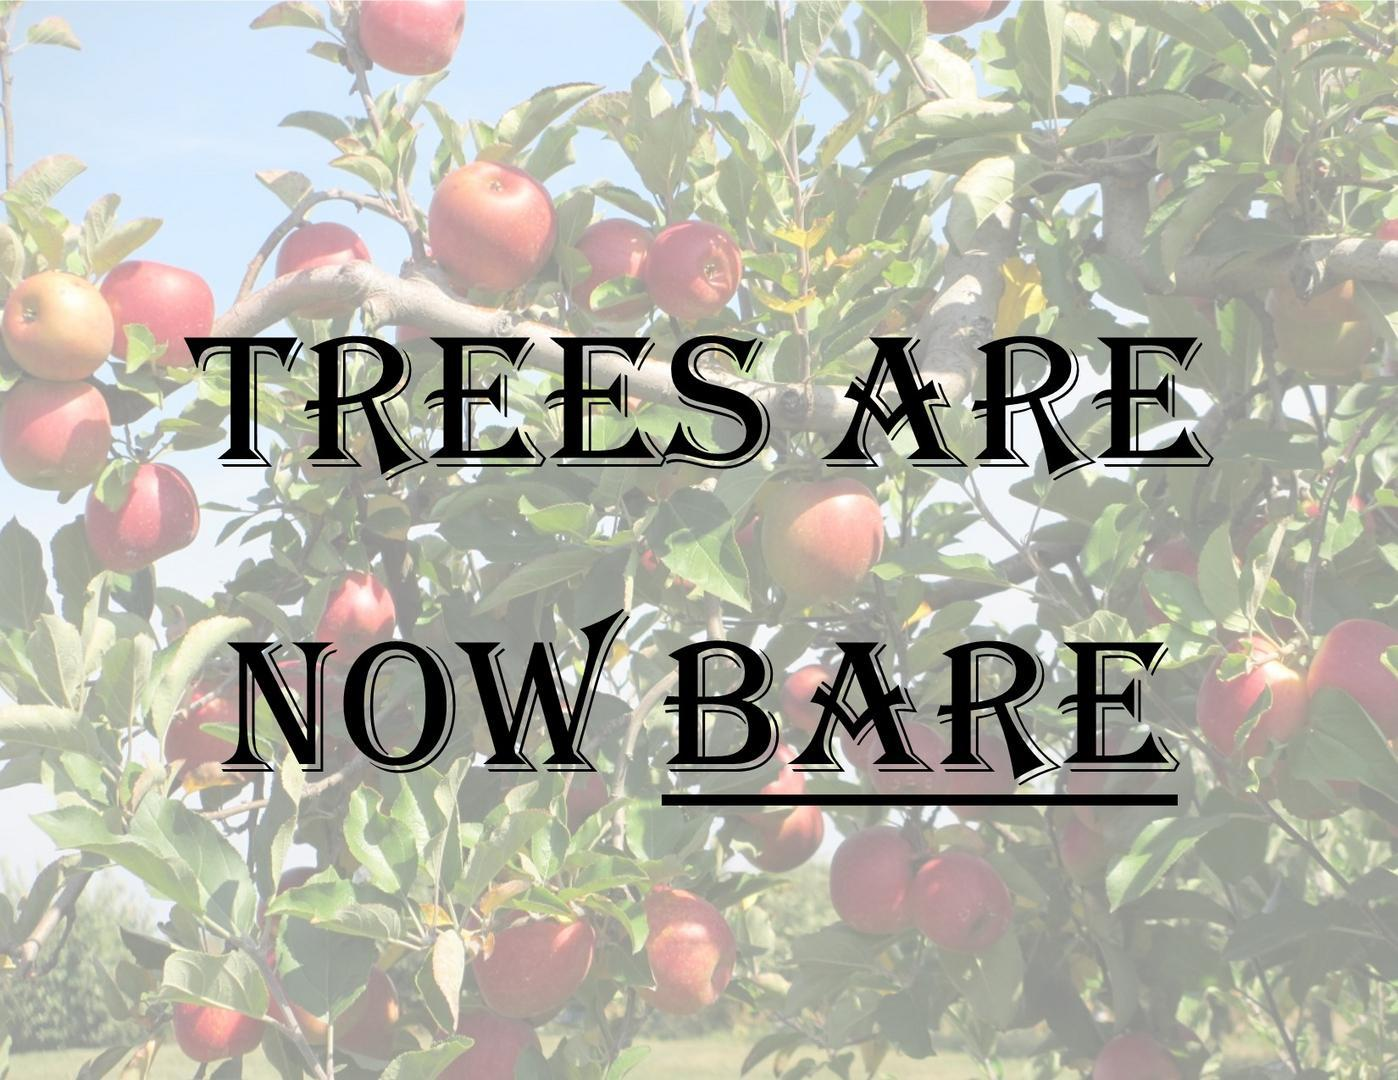apple: (426, 155, 556, 297), (469, 912, 593, 1022), (101, 258, 214, 373), (5, 269, 118, 383), (1201, 646, 1307, 767), (85, 458, 199, 572), (637, 886, 738, 1013), (907, 851, 1009, 955), (645, 221, 741, 322), (575, 217, 654, 282)
